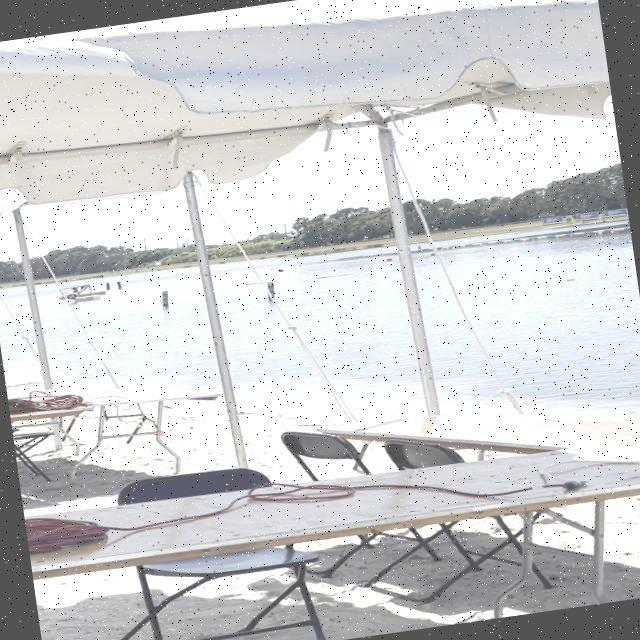buoy: (562, 275, 578, 284), (384, 256, 396, 264), (429, 252, 438, 258)
